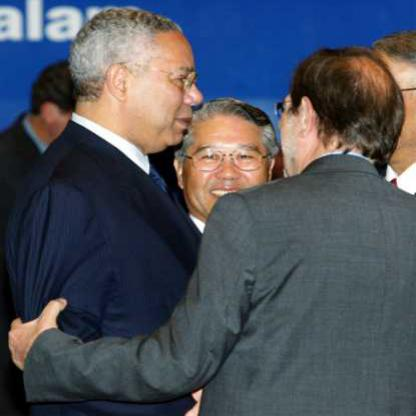face: (182, 102, 272, 222), (127, 26, 212, 150)
